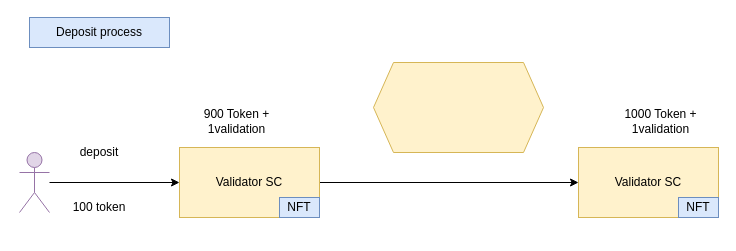
Some shapes in this 736 by 251 pixel diagram are drawn without their labels. Here are the shapes that lost their labels. From the top down, the centre of each, then its label:
At (x=458, y=107): "fractionAC: fnftAC emittedFractions: 1000 nftAc: nftAc remainedFractions:1000".
At (x=34, y=182): "Owner".
